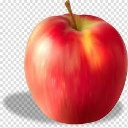apple: (21, 9, 128, 128)
